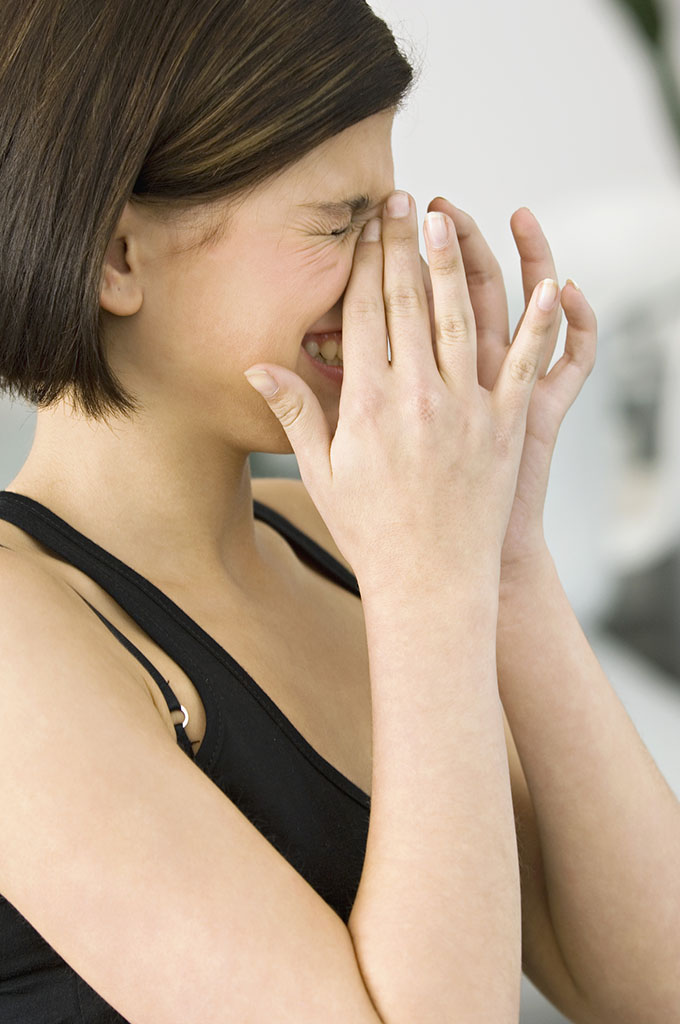face: (203, 85, 403, 459)
